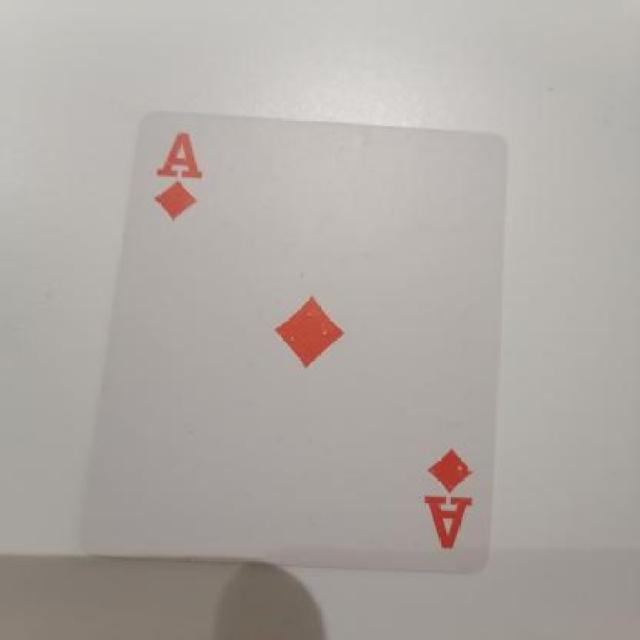AD: (143, 121, 234, 237), (417, 428, 489, 562)
